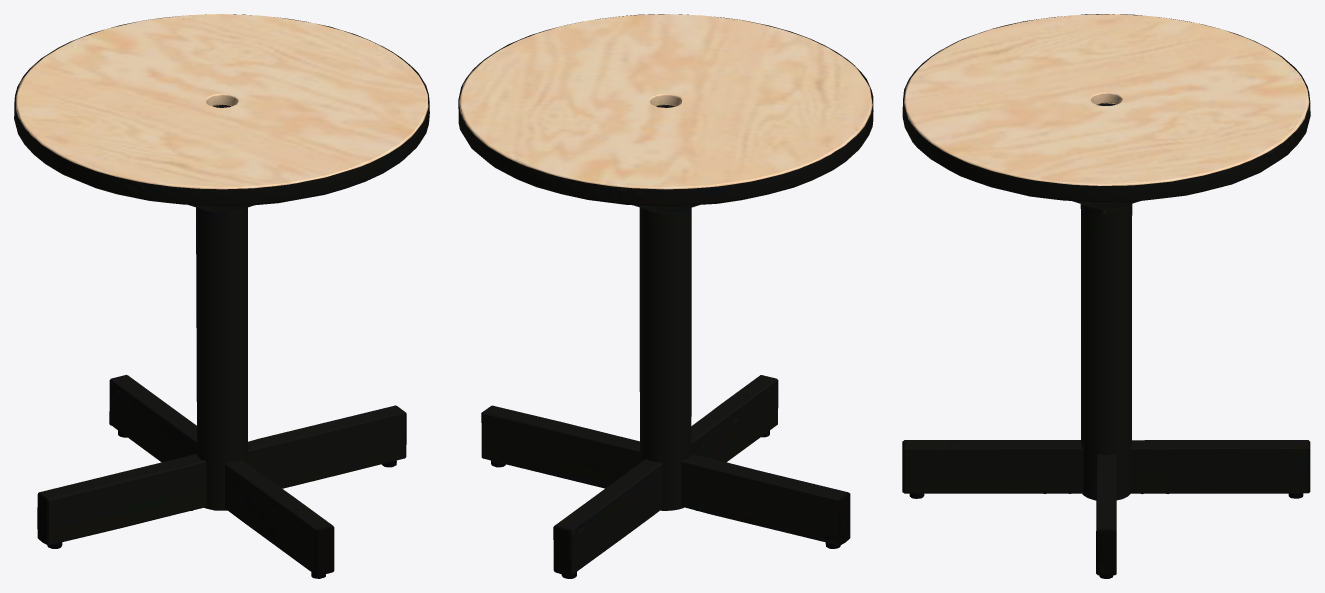
The model's file is table.glb.
3 renders of one model, left to right at view 1: azimuth 30°, elevation 25°; view 2: azimuth 150°, elevation 25°; view 3: azimuth 270°, elevation 25°, orthographic.
Parts seen in each view (by area): view 1: ASY_ART_00589090_S01_NV01; view 2: ASY_ART_00589090_S01_NV01; view 3: ASY_ART_00589090_S01_NV01.
Part boxes in pixels (box(x1,y1,x2,y2)): ASY_ART_00589090_S01_NV01: box(14, 14, 429, 578); ASY_ART_00589090_S01_NV01: box(458, 14, 873, 578); ASY_ART_00589090_S01_NV01: box(902, 14, 1310, 578).
Bounding box in the file's own units: 0.4012 × 0.4302 × 0.401.
Materials: 1 (1 with a texture image).
